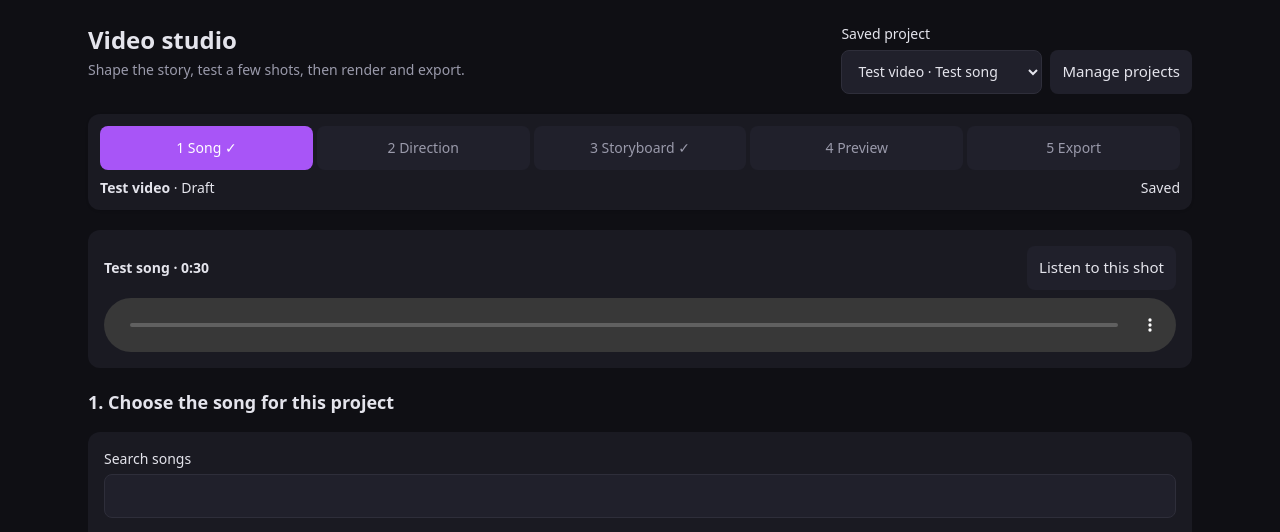
Test: keeps the manager open with an empty message after deleting its last project
What coordinates should you click on to do the following:
click the tab "3 Storyboard ✓"
I would click on:
 (640, 148)
Its box is 534,126 -> 746,170.
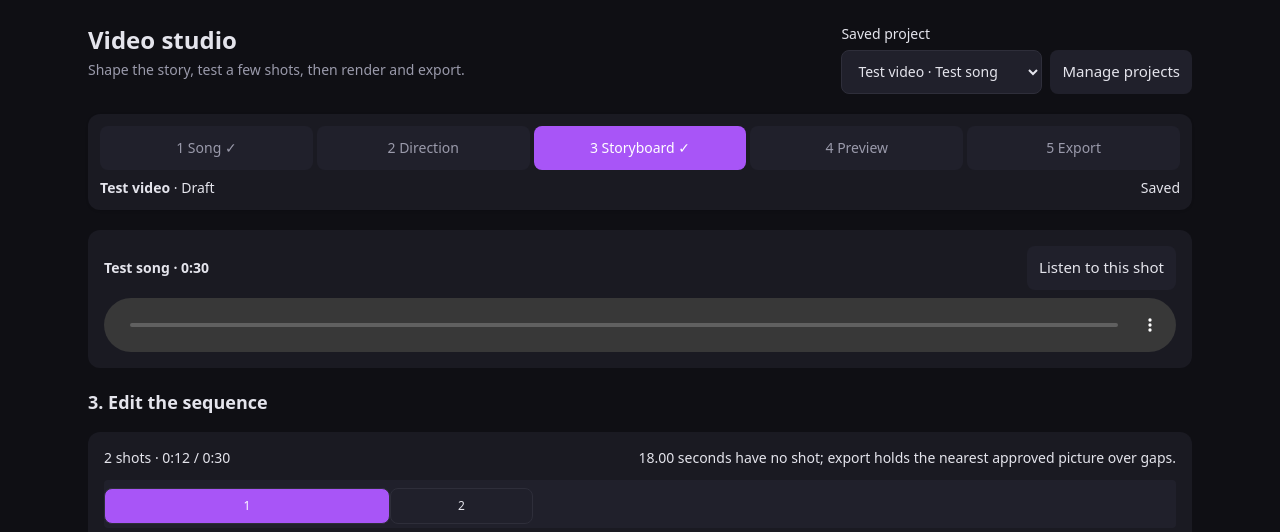
What coordinates should you click on to do the following:
click the button "Manage projects"
I would click on:
 (1121, 72)
Its box is 1050,50 -> 1192,94.
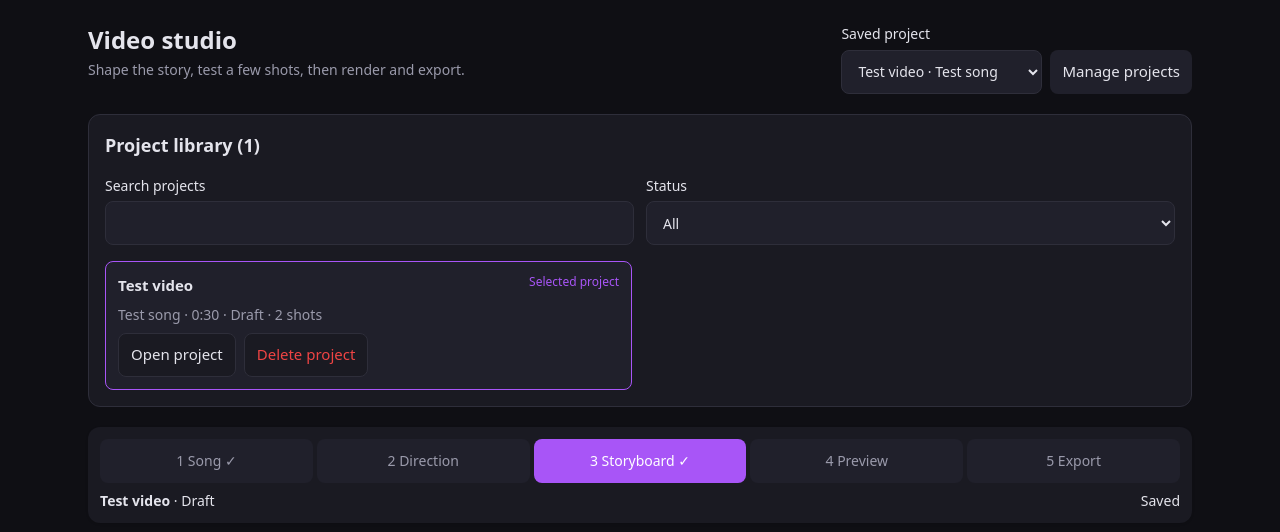
What coordinates should you click on to do the following:
click the button "Delete project"
I would click on:
 (306, 355)
Its box is 244,333 -> 368,377.
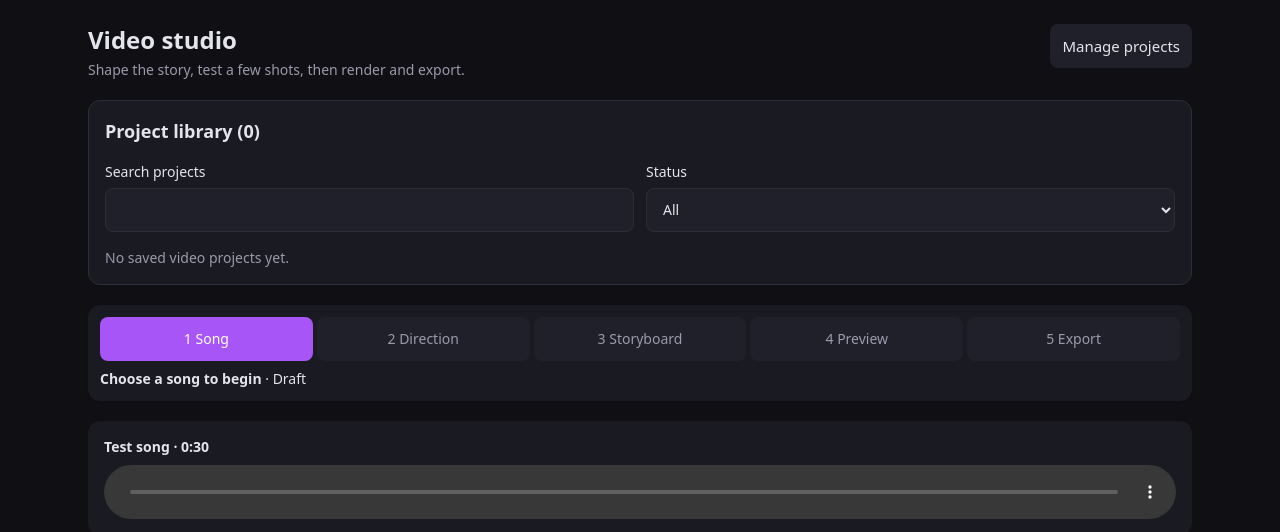
Expected: the element that starts with "Project library (0)" is shown, 88,100 -> 1192,285
Expected: the text "No saved video projects yet" is shown, 105,248 -> 289,267
Expected: the element with test id "video-global-status" shows "Choose a song to begin", 100,369 -> 262,388
